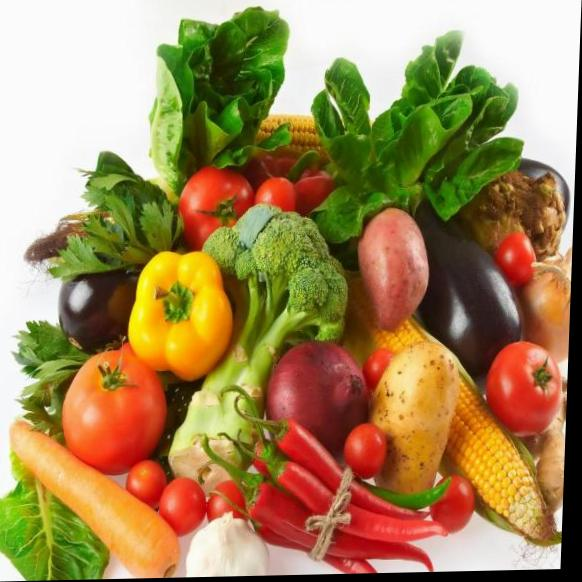Tomato: (125, 455, 171, 505)
broccoli: (159, 196, 360, 500)
carrots: (4, 407, 201, 581)
tomatoes: (53, 341, 175, 464), (477, 330, 567, 444), (148, 468, 203, 540), (490, 232, 540, 285)
